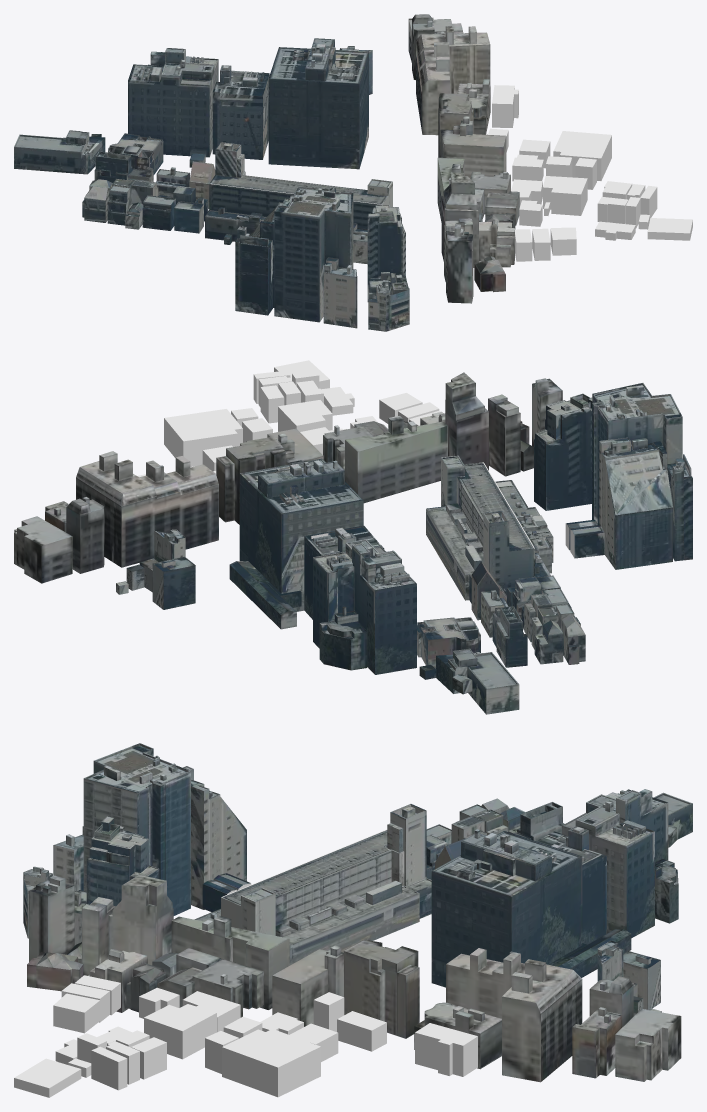
The model's file is data506.glb.
3 views of the same model, one above another, from view 1: azimuth 30°, elevation 25°; view 2: azimuth 150°, elevation 25°; view 3: azimuth 270°, elevation 25° (orthographic). The views are drawn at different scales.
Size of the model in its own units: 192 by 50.09 by 192.
Materials: 2 (1 with a texture image).
